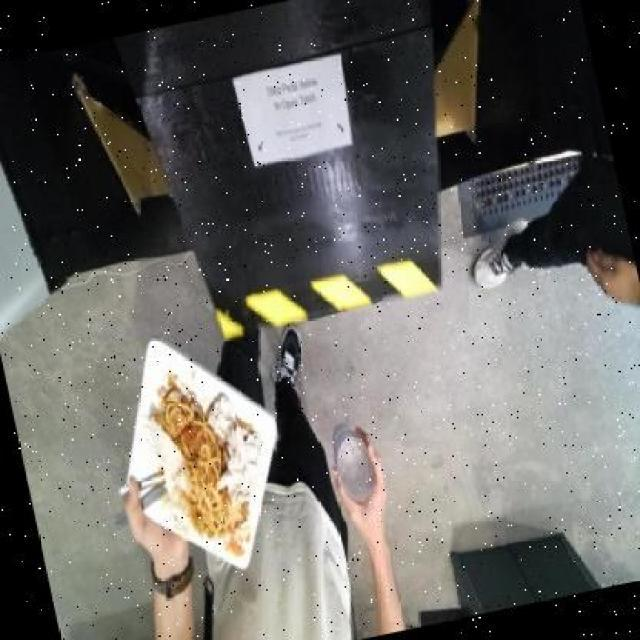Anorganik: (91, 312, 307, 594), (118, 461, 164, 503)
Organik: (141, 373, 239, 549)
